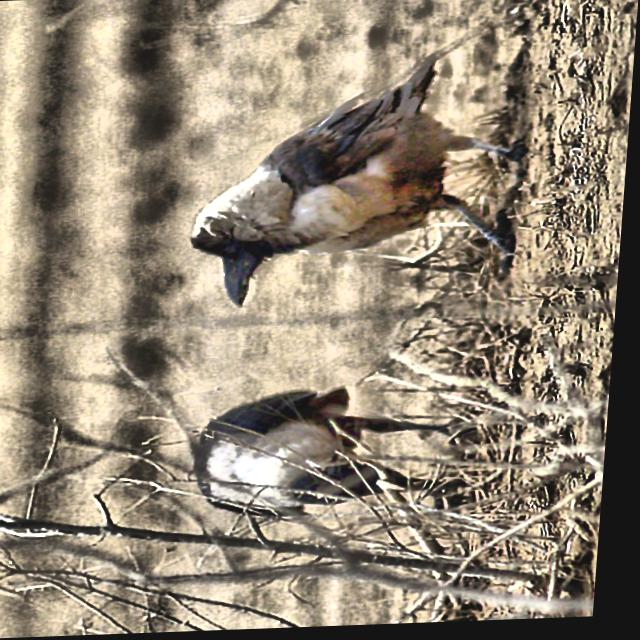crow: (142, 17, 499, 548)
